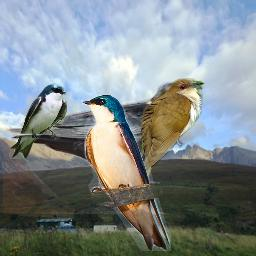Crow: (3, 78, 204, 214)
Cuckoo: (128, 78, 205, 220)
Swallow: (82, 94, 171, 251), (9, 83, 67, 159)
